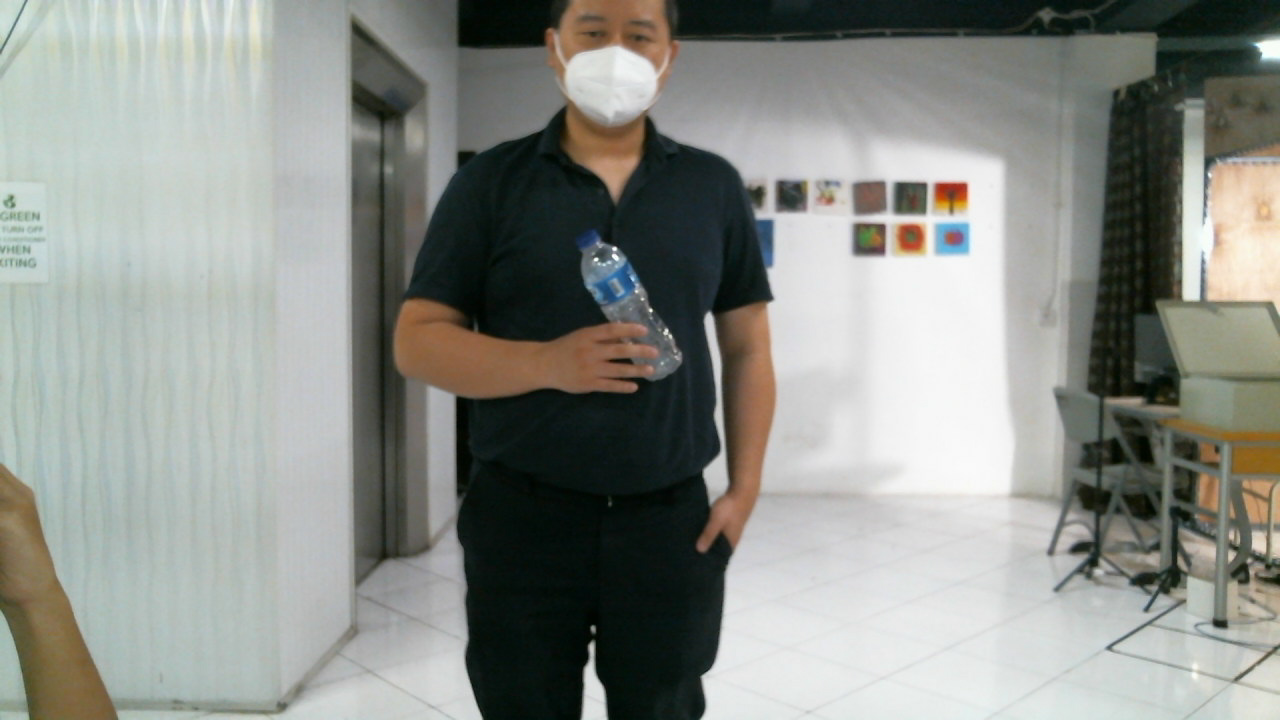Bottle: (572, 232, 682, 378)
